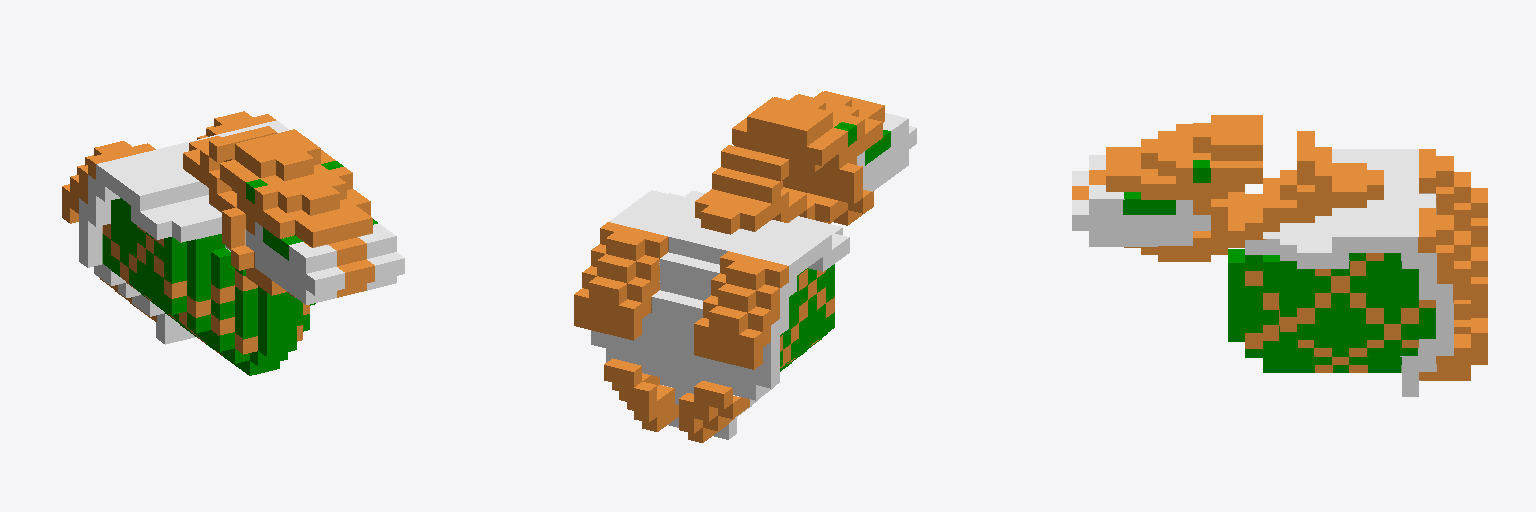
3 views of the same model, side by side, from view 1: azimuth 30°, elevation 25°; view 2: azimuth 150°, elevation 25°; view 3: azimuth 270°, elevation 25° (orthographic).
Parts seen in each view (by area): view 1: koopa_2; view 2: koopa_2; view 3: koopa_2.
Part boxes in pixels (bbox=[...]): koopa_2: bbox=[62, 111, 404, 375]; koopa_2: bbox=[574, 91, 916, 442]; koopa_2: bbox=[1072, 115, 1487, 396].
Size of the model in its own units: 120 by 160 by 240.
Materials: 1 (1 with a texture image).